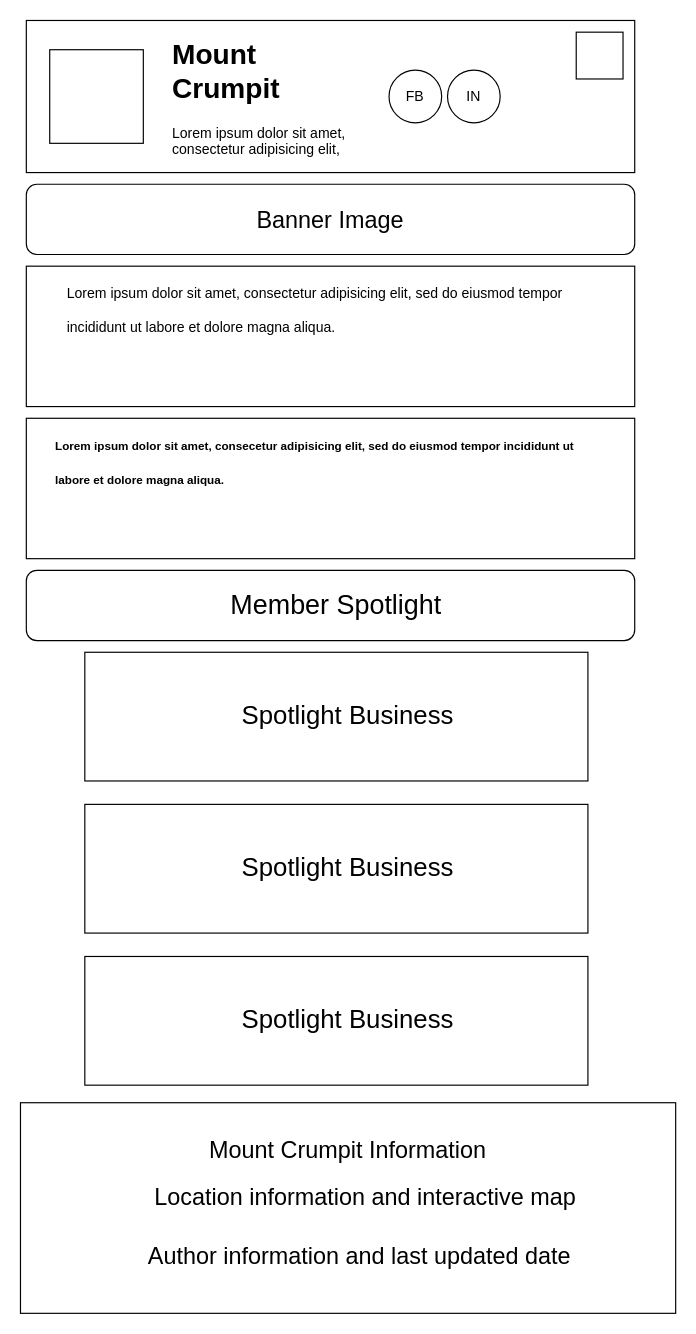
Image size: 696x1334. Some labels were removed from this diagram. The centre of each missing label's shape, as x and y in pixels:
"Ham menu" belongs at [599,55].
"Logo" belongs at [96,96].
